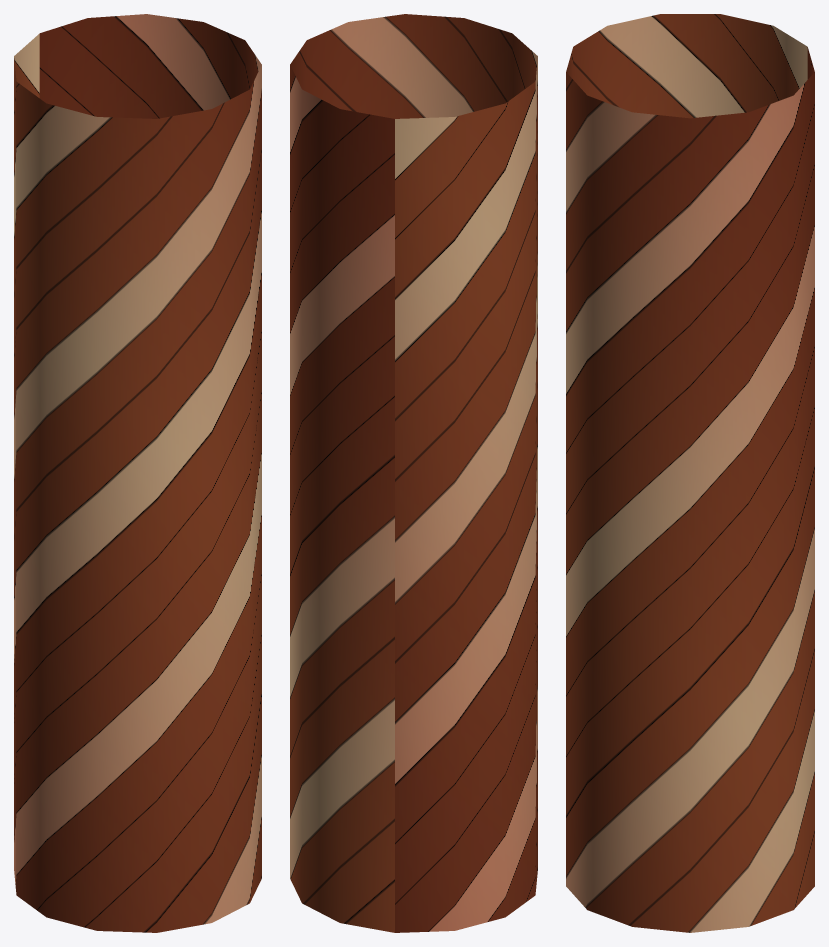
Rendered from hasira.fbx.
3 views of the same model, side by side, from view 1: azimuth 30°, elevation 25°; view 2: azimuth 150°, elevation 25°; view 3: azimuth 270°, elevation 25° (orthographic).
Parts seen in each view (by area): view 1: pCylinder1; view 2: pCylinder1; view 3: pCylinder1.
Boxes of the visible parts, x1=… form: pCylinder1: x1=14, y1=14, x2=261, y2=932; pCylinder1: x1=290, y1=14, x2=537, y2=932; pCylinder1: x1=566, y1=14, x2=814, y2=932.
Bounding box in the file's own units: 2.68 × 9.75 × 2.7.
1 material, 1 textured.
